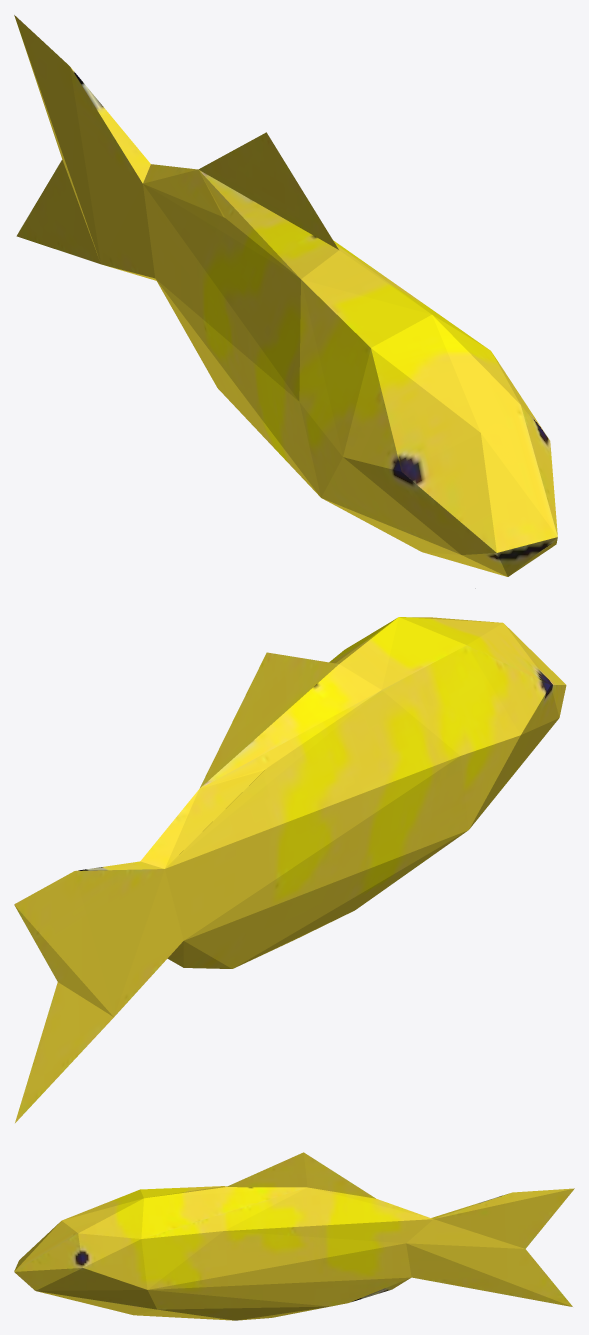
File: golden_fish.glb
The picture shows the model from 3 angles, top to bottom: view 1: azimuth 30°, elevation 25°; view 2: azimuth 150°, elevation 25°; view 3: azimuth 270°, elevation 25°; orthographic projection. The views are drawn at different scales.
Parts seen in each view (by area): view 1: Koi.002_Eyes_0; view 2: Koi.002_Eyes_0; view 3: Koi.002_Eyes_0.
Boxes of the visible parts, x1,y1,x2,y2 form: Koi.002_Eyes_0: (14,15,557,588); Koi.002_Eyes_0: (14,617,566,1122); Koi.002_Eyes_0: (14,1152,574,1320).
Size of the model in its own units: 1.11 by 1.85 by 5.66.
Materials: 1 (1 with a texture image).
